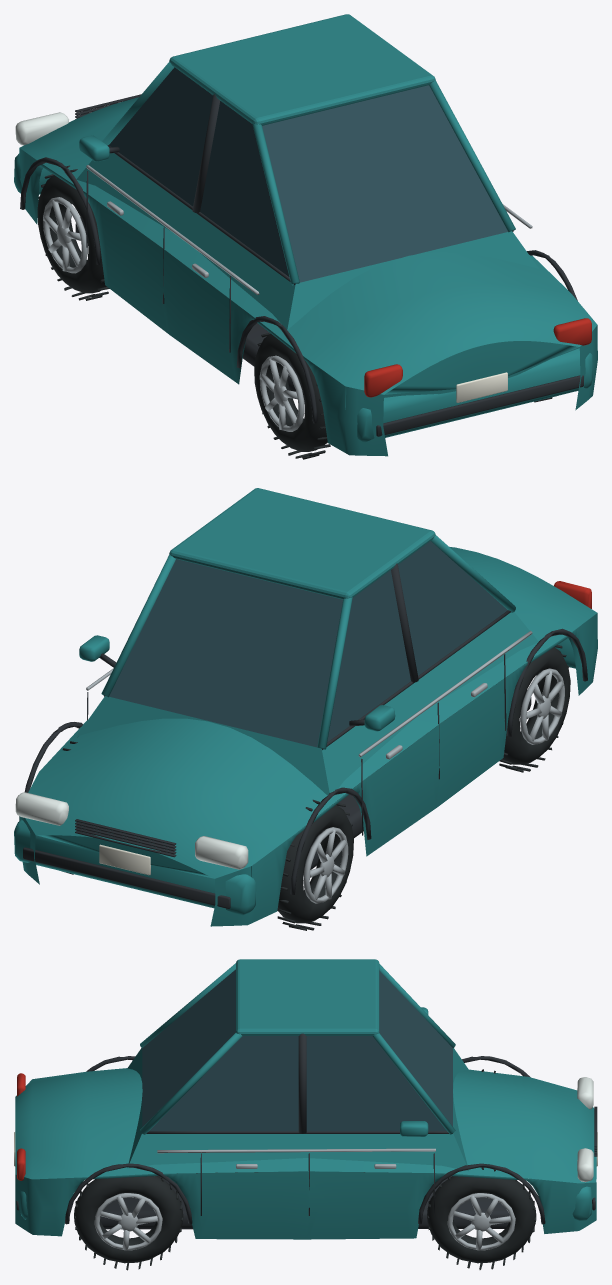
3 renders of one model, top to bottom at view 1: azimuth 30°, elevation 25°; view 2: azimuth 150°, elevation 25°; view 3: azimuth 270°, elevation 25°, orthographic. The views are drawn at different scales.
Parts seen in each view (by area): view 1: compact_car_body, compact_car_front_left_door, compact_car_rear_left_door, compact_car_rear_left_wheel, compact_car_front_left_wheel; view 2: compact_car_body, compact_car_front_left_door, compact_car_rear_left_door, compact_car_front_left_wheel, compact_car_rear_left_wheel, compact_car_front_right_door; view 3: compact_car_body, compact_car_front_right_door, compact_car_rear_right_door, compact_car_rear_right_wheel, compact_car_front_right_wheel.
Boxes of the visible parts, x1,y1,x2,y2 form: compact_car_body: (14, 14, 597, 456); compact_car_front_left_door: (79, 67, 213, 333); compact_car_rear_left_door: (162, 101, 270, 381); compact_car_rear_left_wheel: (254, 330, 330, 459); compact_car_front_left_wheel: (37, 165, 109, 300); compact_car_body: (14, 488, 597, 926); compact_car_front_left_door: (330, 571, 439, 856); compact_car_rear_left_door: (389, 541, 506, 808); compact_car_front_left_wheel: (277, 799, 353, 930); compact_car_rear_left_wheel: (499, 645, 570, 772); compact_car_front_right_door: (79, 635, 116, 719); compact_car_body: (14, 959, 597, 1238); compact_car_front_right_door: (309, 1036, 434, 1239); compact_car_rear_right_door: (200, 1036, 309, 1239); compact_car_rear_right_wheel: (74, 1176, 183, 1270); compact_car_front_right_wheel: (427, 1167, 536, 1269).
Size of the model in its own units: 1.7 by 1.5 by 3.5.
